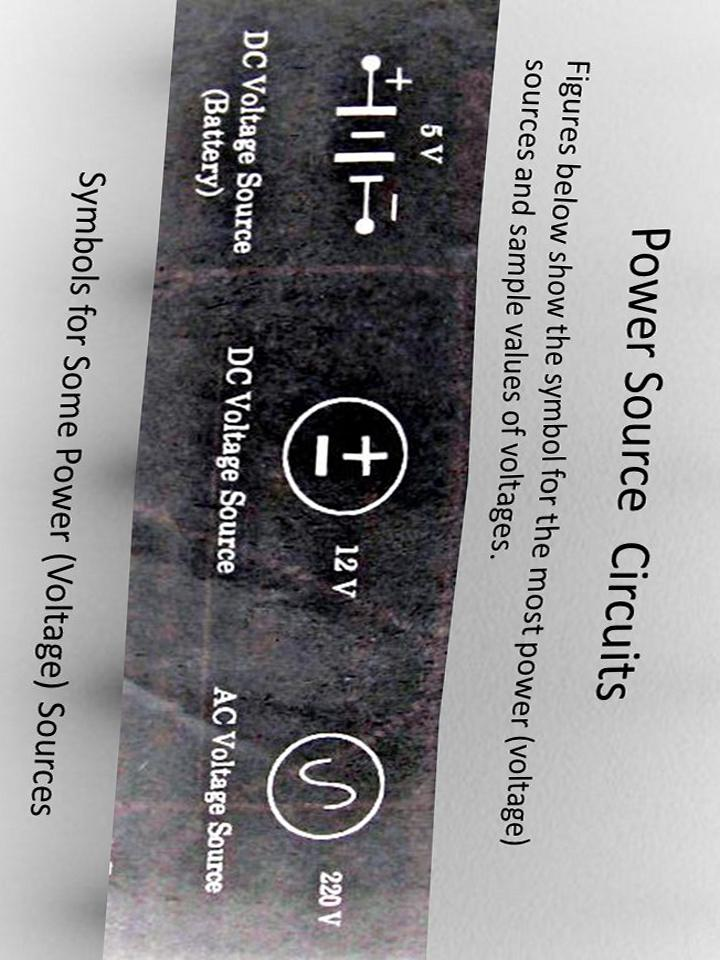Battery: (271, 371, 432, 525)
